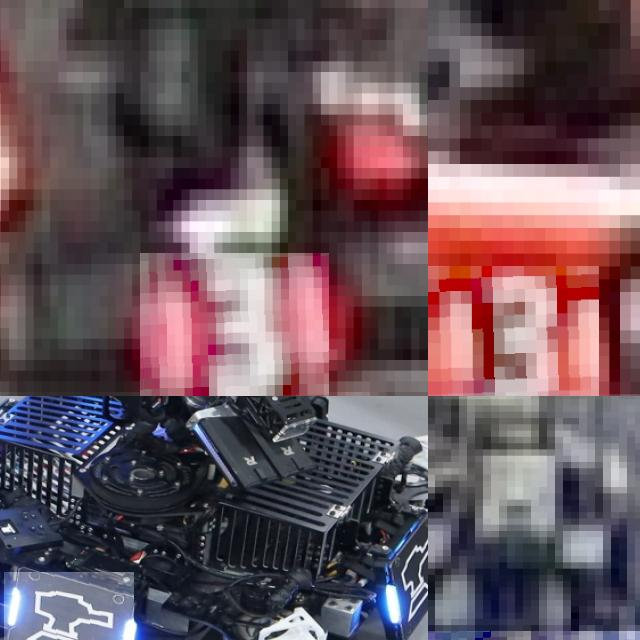Bs: (4, 571, 134, 640), (387, 528, 428, 628)
R3: (140, 253, 328, 396), (428, 266, 598, 396)
